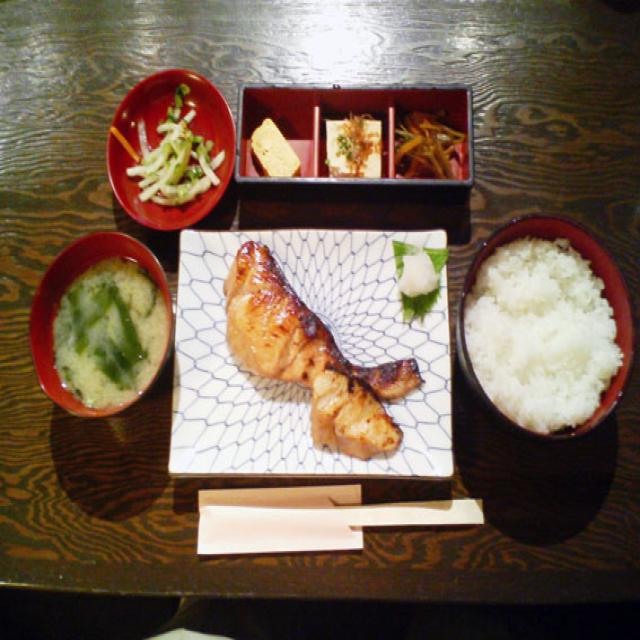熟制海鲜: (193, 229, 426, 487)
